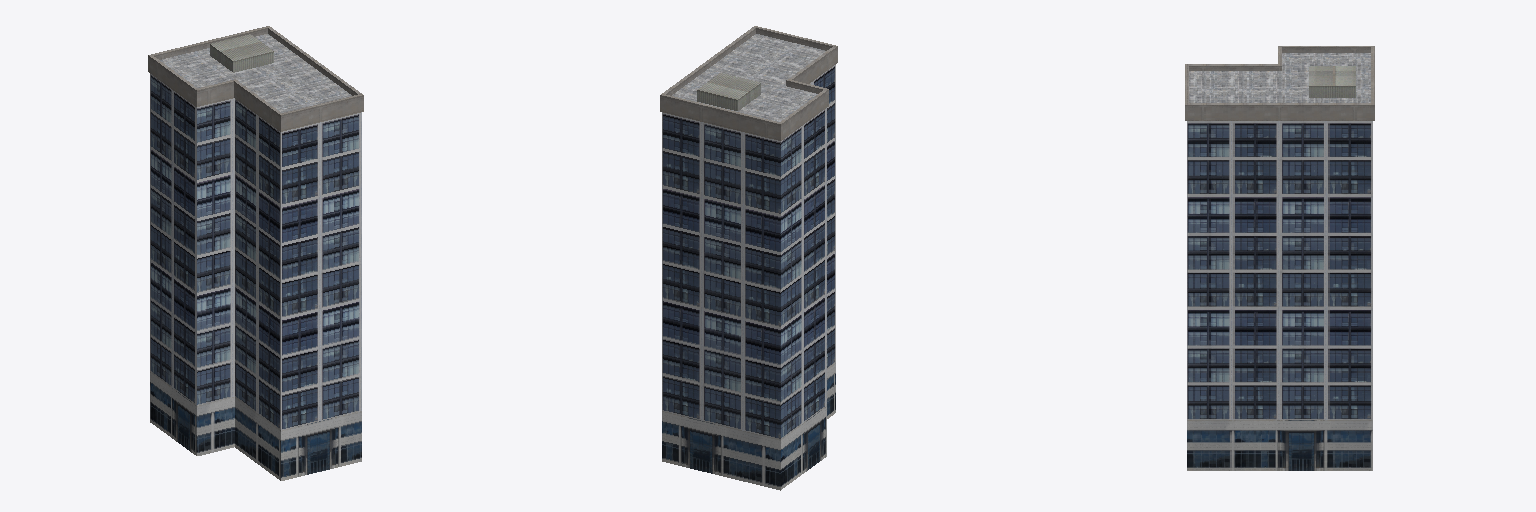
3 renders of one model, left to right at view 1: azimuth 30°, elevation 25°; view 2: azimuth 150°, elevation 25°; view 3: azimuth 270°, elevation 25°, orthographic.
Visible parts, largest first — view 1: building_14; view 2: building_14; view 3: building_14.
Boxes of the visible parts, x1,y1,x2,y2 form: building_14: [148, 26, 363, 480]; building_14: [660, 26, 837, 490]; building_14: [1185, 46, 1374, 470].
Size of the model in its own units: 73.74 by 217 by 100.
Materials: 1 (1 with a texture image).